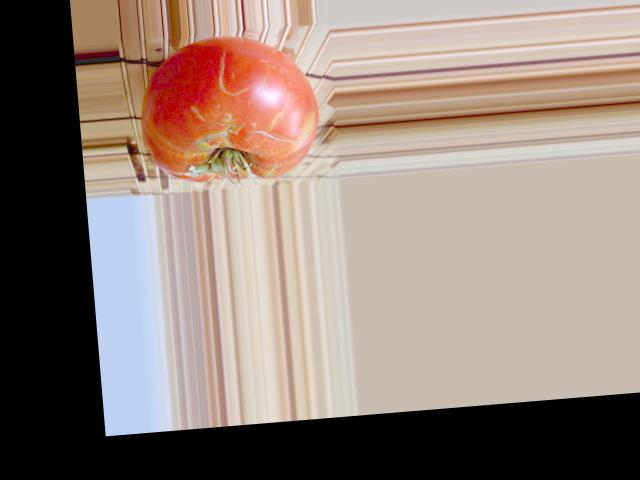tomato: (134, 31, 322, 188)
